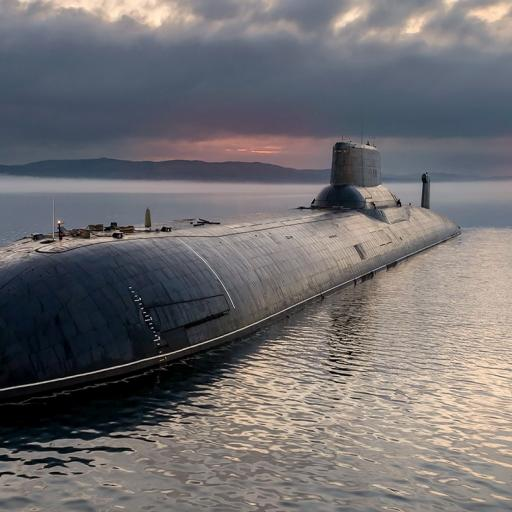submarine: (1, 134, 469, 428)
